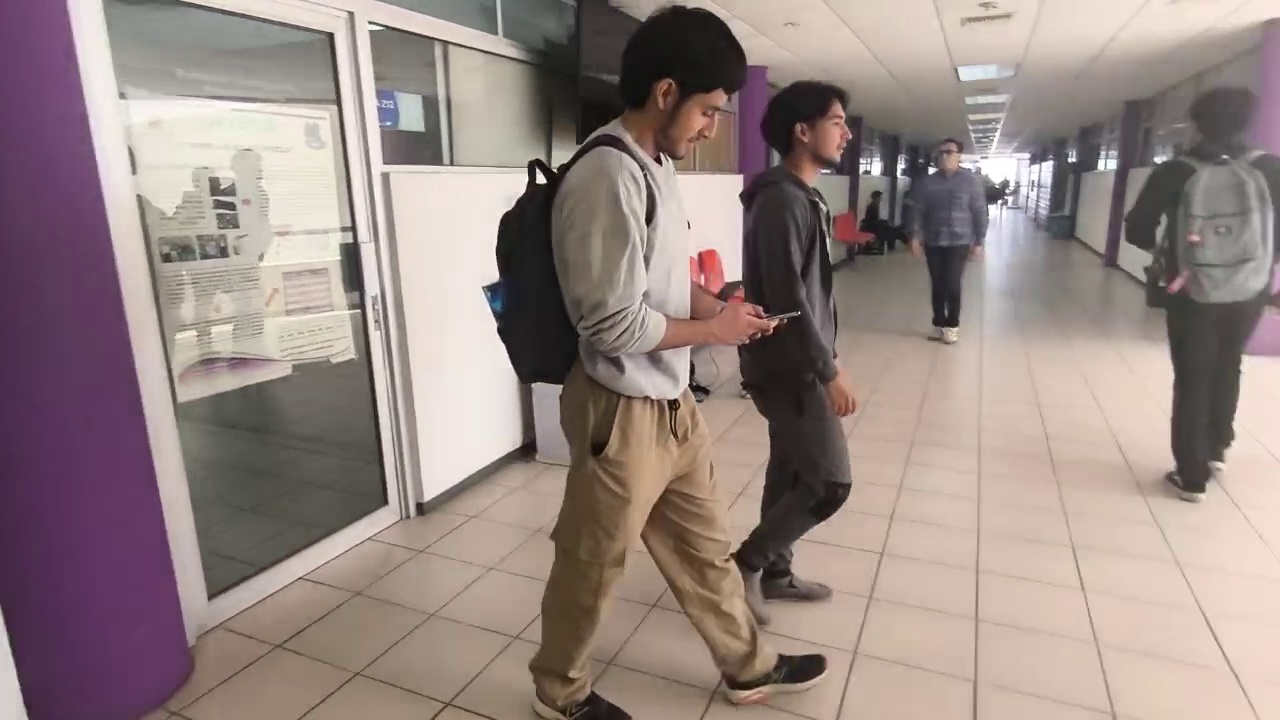mixto2: (749, 298, 804, 327)
